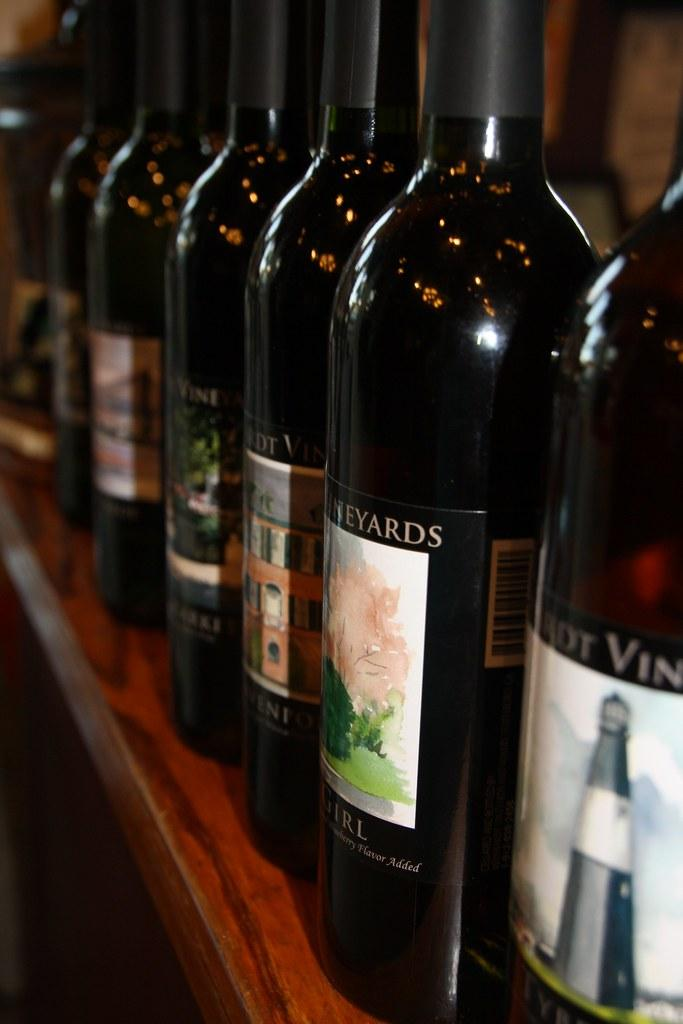bottle: (315, 2, 604, 1022), (506, 92, 683, 1023), (240, 1, 424, 875), (163, 1, 320, 765), (87, 2, 223, 629), (46, 2, 140, 530), (1, 1, 88, 465)
